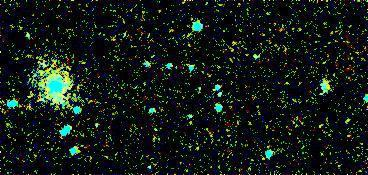star: (32, 74, 62, 104)
